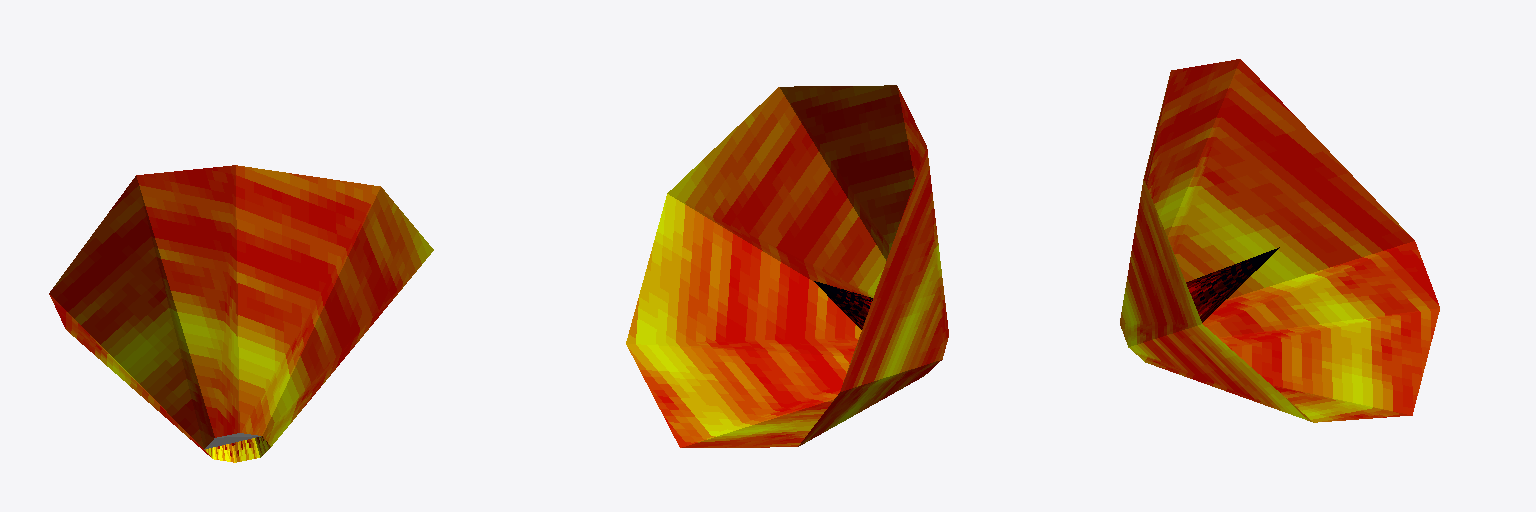
The picture shows the model from 3 angles: view 1: azimuth 30°, elevation 25°; view 2: azimuth 150°, elevation 25°; view 3: azimuth 270°, elevation 25°; orthographic projection.
Visible parts, largest first — view 1: turbo1; view 2: turbo1; view 3: turbo1.
Boxes of the visible parts, box(x1,y1,x2,y2) form: turbo1: box(49, 165, 433, 462); turbo1: box(626, 85, 948, 447); turbo1: box(1120, 59, 1439, 422).
Bounding box in the file's own units: 1.25 × 1.27 × 1.24.
9 materials, 9 textured.